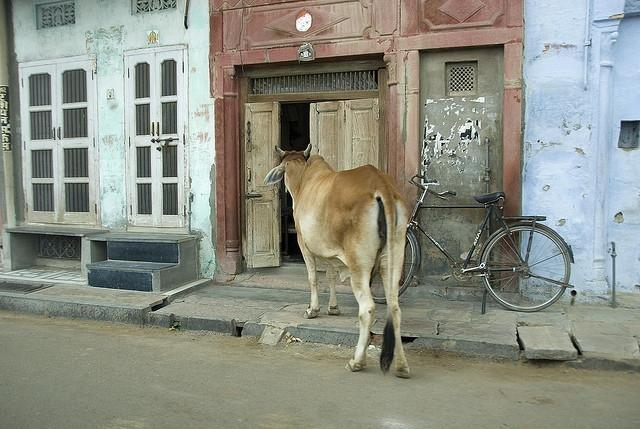bicycle: (398, 168, 577, 314)
